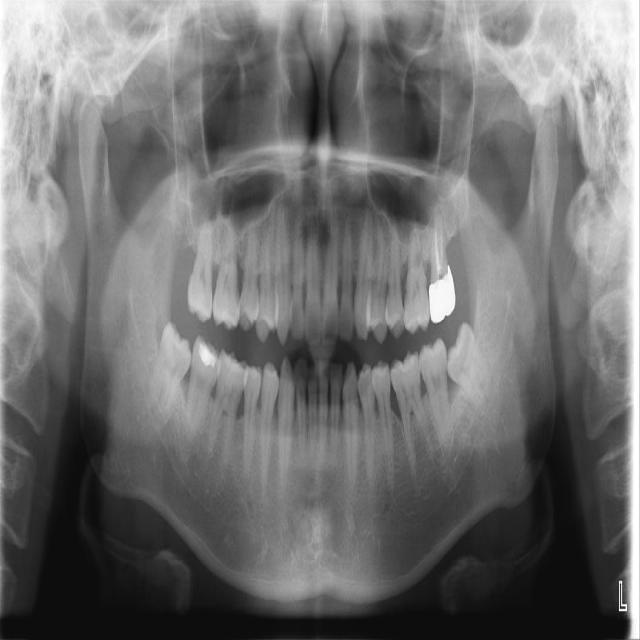Crown: (429, 265, 456, 324)
Filling: (199, 342, 221, 368)
Root Canal Treatment: (434, 210, 441, 272), (440, 212, 442, 264)
impacted tooth: (447, 322, 503, 429), (144, 324, 192, 434)
